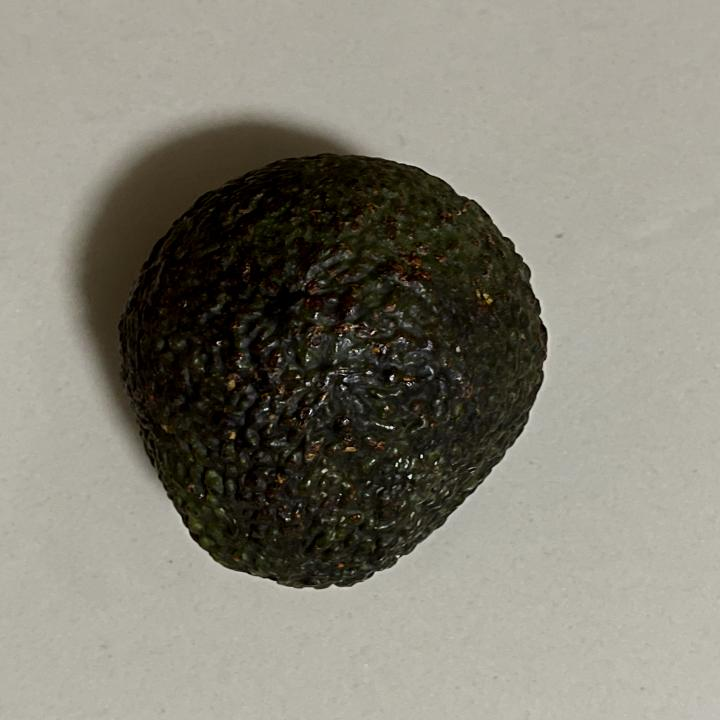Level1: (104, 144, 564, 610)
